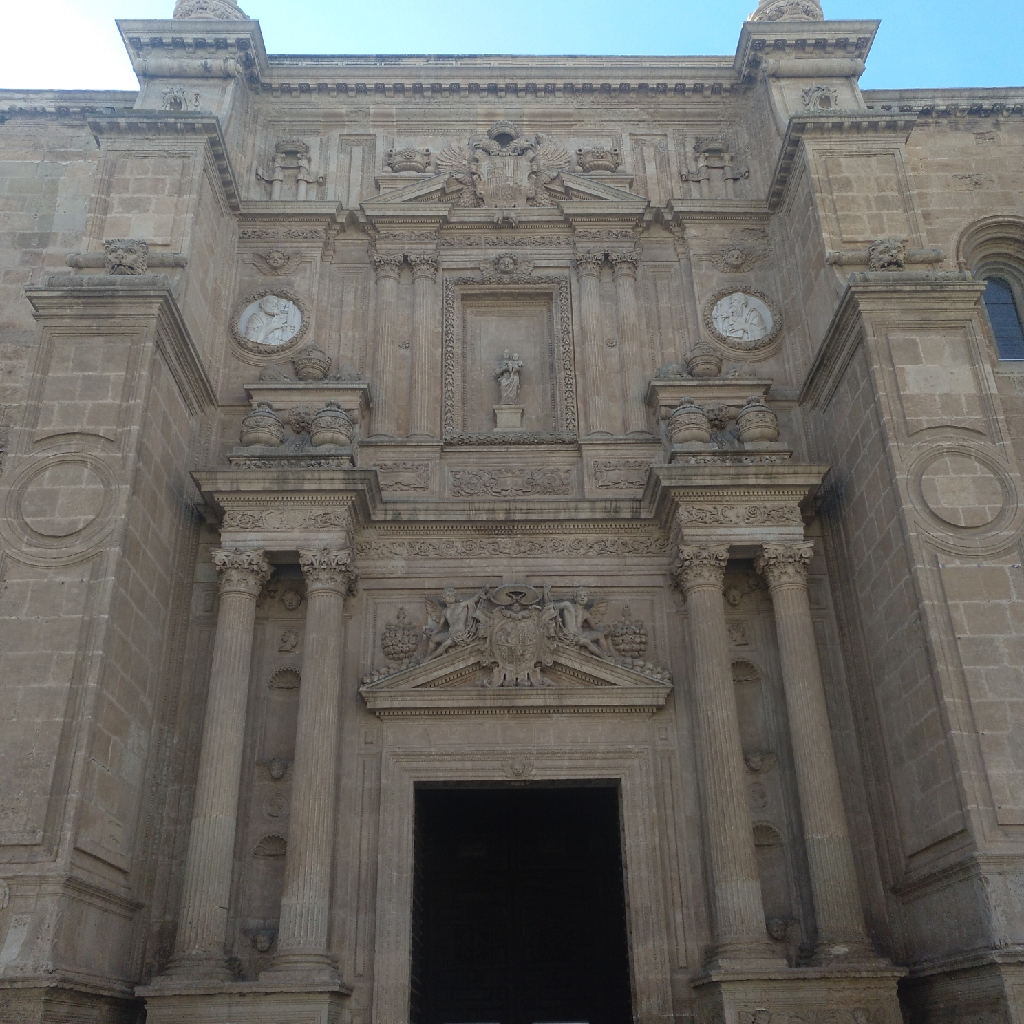fronton: (353, 632, 674, 712)
fronton-partido: (358, 167, 652, 222)
vano-adintelado: (368, 733, 660, 1022), (428, 264, 569, 448)
